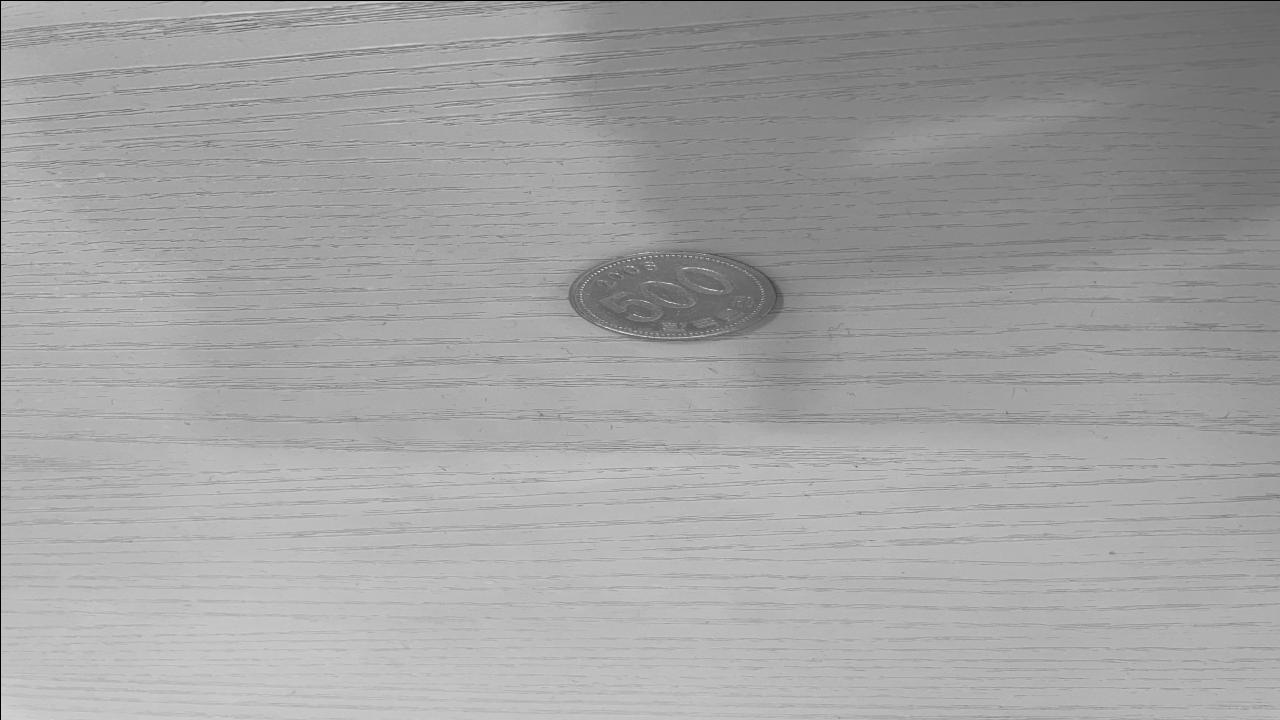coin: (565, 251, 781, 341)
